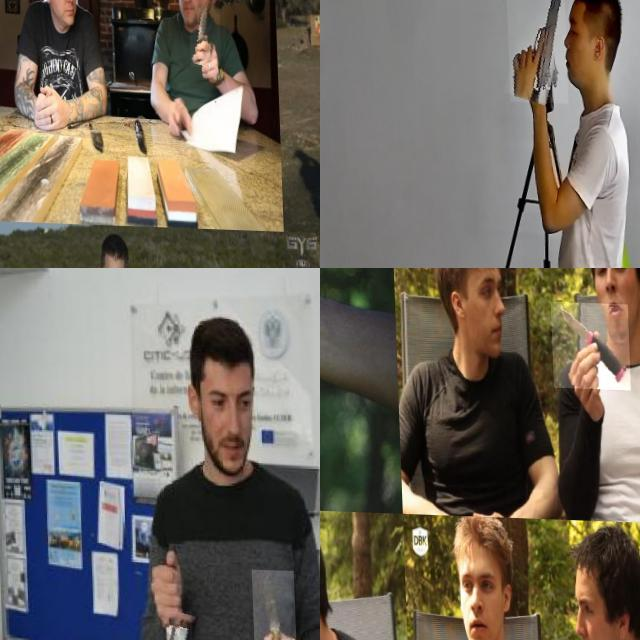-: (320, 268, 371, 499), (550, 297, 629, 387), (249, 567, 294, 640), (187, 0, 220, 65), (152, 608, 191, 640)
gun-knife-thesis - v11 Yolov5 augmented: (505, 0, 567, 101)
